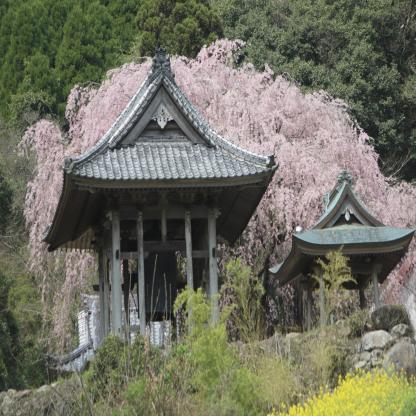ShidareZakura: (12, 37, 416, 366)
